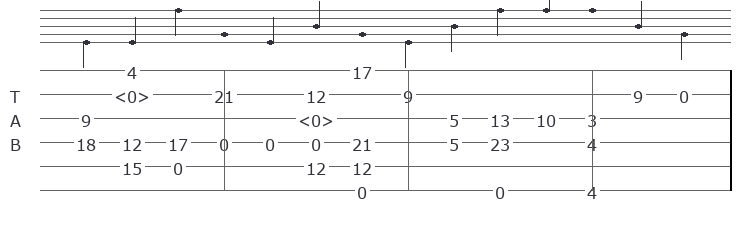0: (173, 158, 187, 174), (219, 134, 233, 150), (265, 134, 279, 150), (311, 134, 325, 150), (357, 182, 371, 198), (495, 182, 509, 198), (679, 86, 693, 102)
10: (536, 110, 560, 126)
12: (122, 134, 146, 150), (306, 86, 330, 102), (306, 158, 330, 174), (352, 158, 376, 174)
13: (490, 110, 514, 126)
15: (122, 158, 146, 174)
17: (168, 134, 192, 150), (352, 62, 376, 78)
18: (76, 134, 100, 150)
21: (214, 86, 238, 102), (352, 134, 376, 150)
23: (490, 134, 514, 150)
3: (587, 110, 601, 126)
4: (127, 62, 141, 78), (587, 134, 601, 150), (587, 182, 601, 198)
5: (449, 134, 463, 150), (449, 110, 463, 126)
9: (81, 110, 95, 126), (403, 86, 417, 102), (633, 86, 647, 102)
harmonic: (114, 86, 154, 102), (298, 110, 338, 126)
